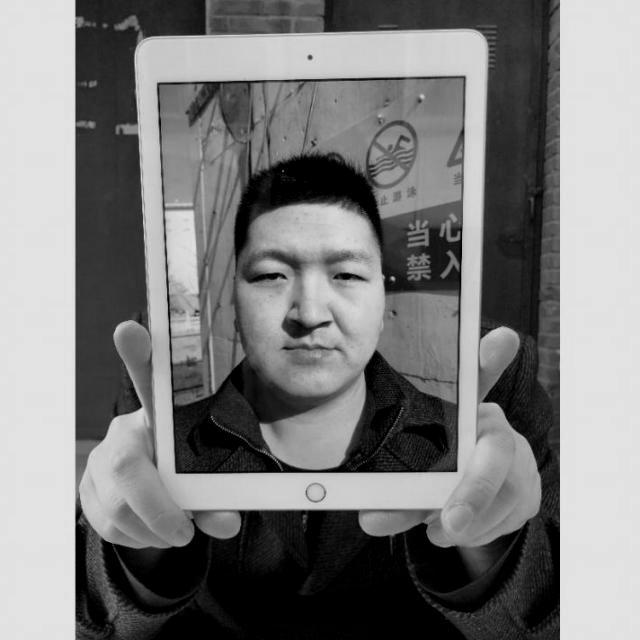fake: (133, 26, 487, 526)
